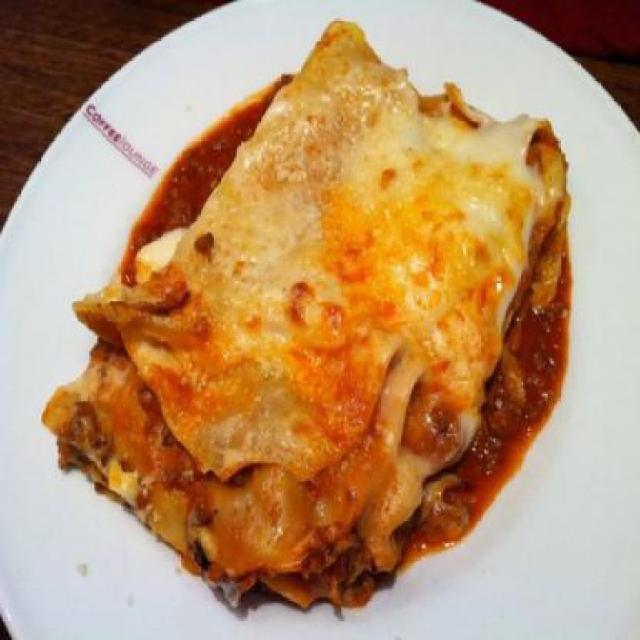Lasagna: (39, 4, 578, 618)
